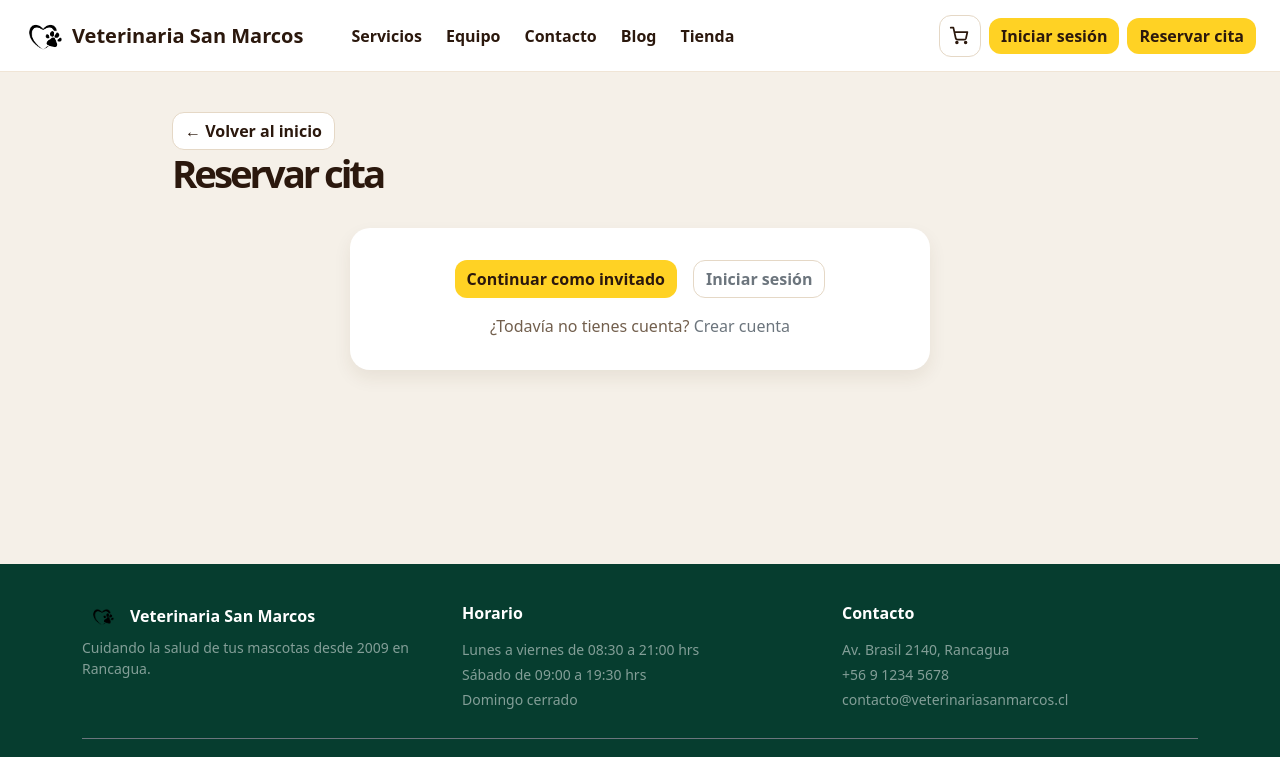
Test: el ingreso opcional vuelve a la reserva y conserva los datos de la mascota
This screenshot has width=1280, height=757.
Step 1. Click the button "Continuar como invitado" → (566, 279), box x1=454 y1=260 x2=677 y2=298
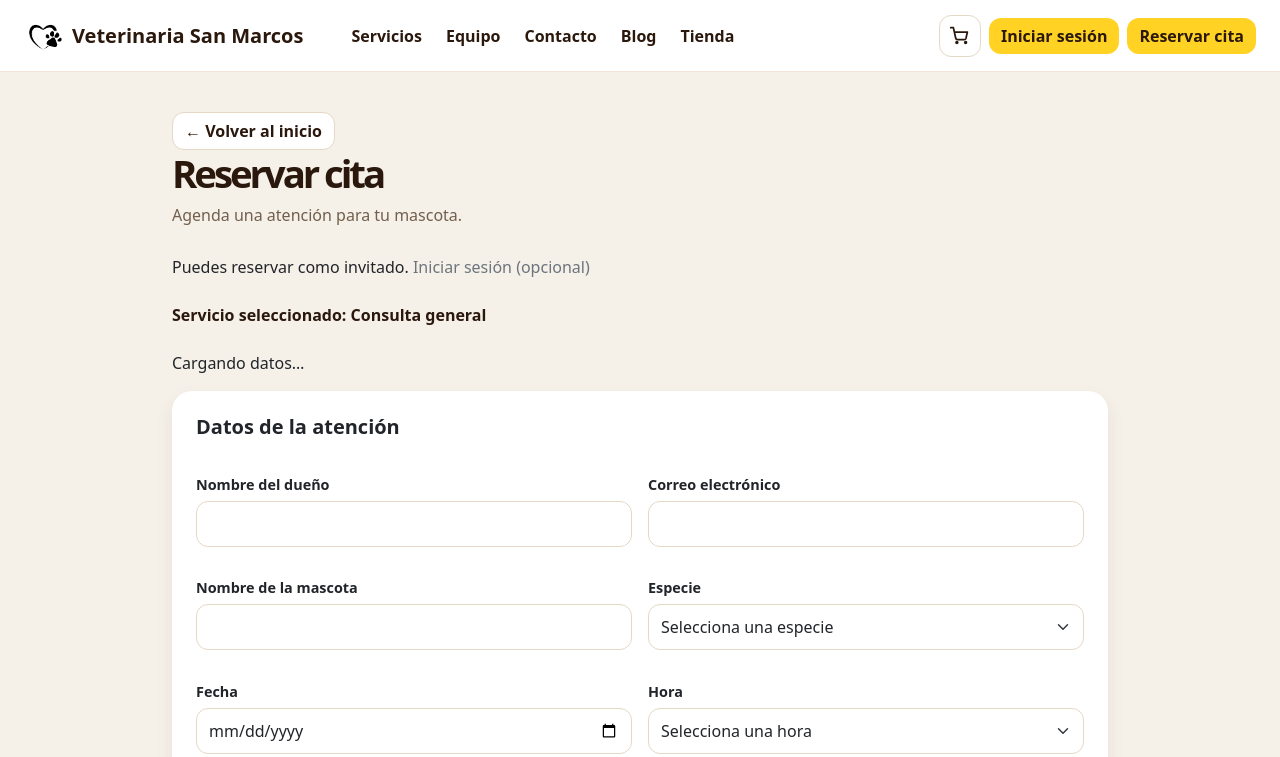
Step 2. Type "Luna" into the field labelled "Nombre de la mascota" → (414, 628), box x1=196 y1=604 x2=632 y2=650
(page scrolled)
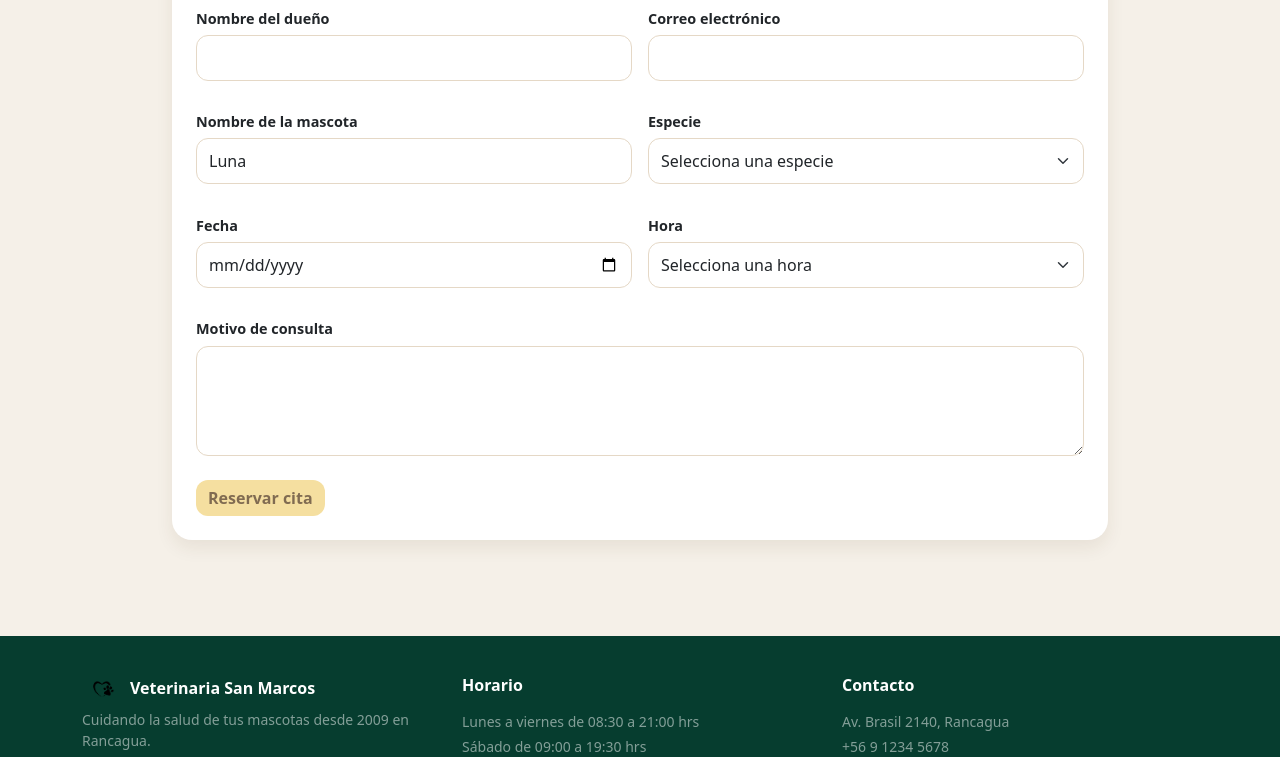
Step 3. Type "Motivo conservado" into the text box labelled "Motivo de consulta" → (640, 401), box x1=196 y1=346 x2=1084 y2=456
(page scrolled)
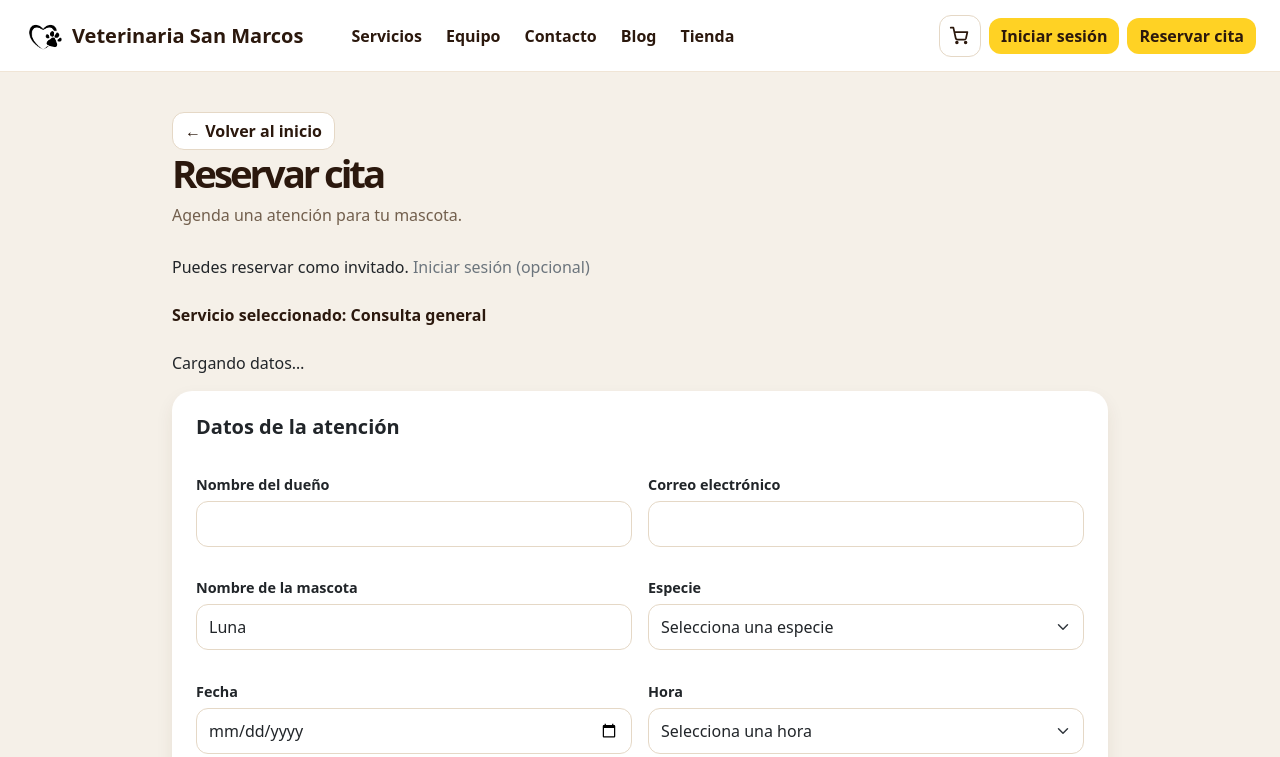
Step 4. Click the link "Iniciar sesión (opcional)" → (501, 267), box x1=413 y1=256 x2=590 y2=278
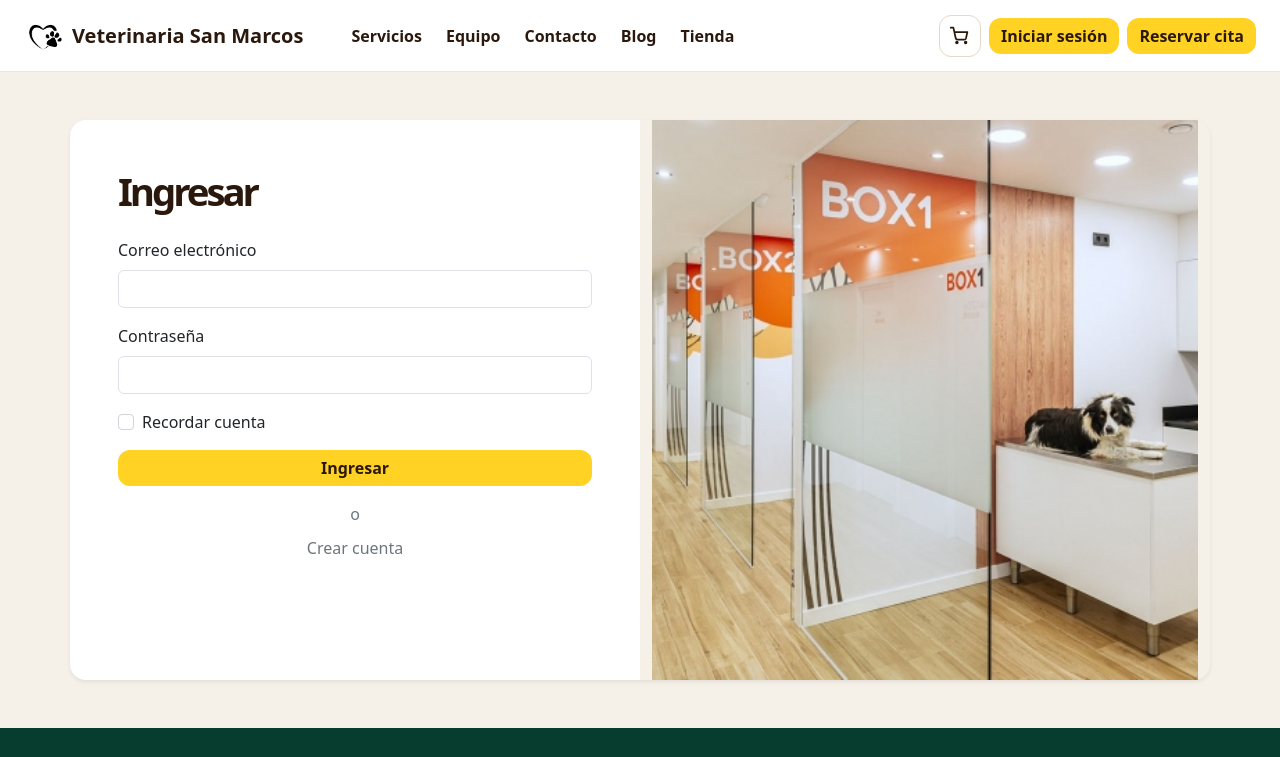
Step 5. Type "sofia@gmail.com" into the field labelled "Correo electrónico" → (355, 289), box x1=118 y1=270 x2=592 y2=308
Step 6. Type "1234" into the password field labelled "Contraseña" → (355, 375), box x1=118 y1=356 x2=592 y2=394
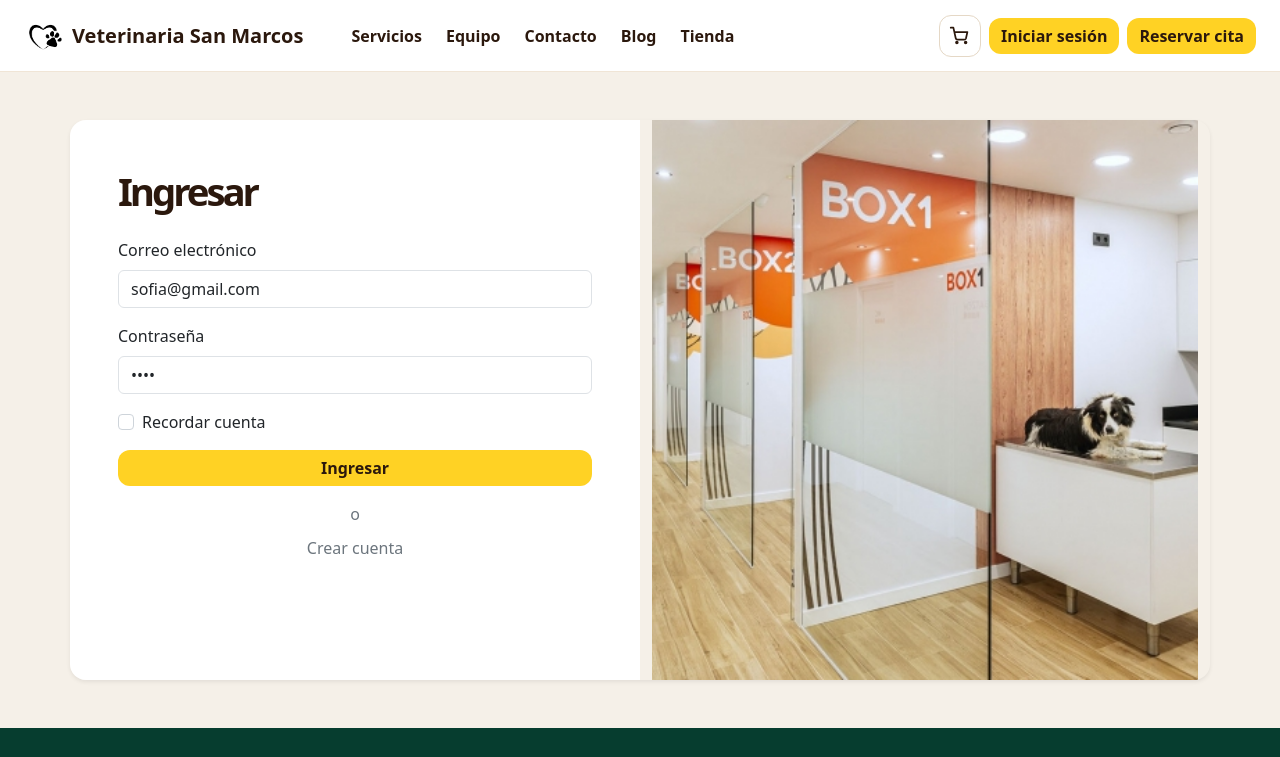
Step 7. Click the button "Ingresar" → (355, 468), box x1=118 y1=450 x2=592 y2=486
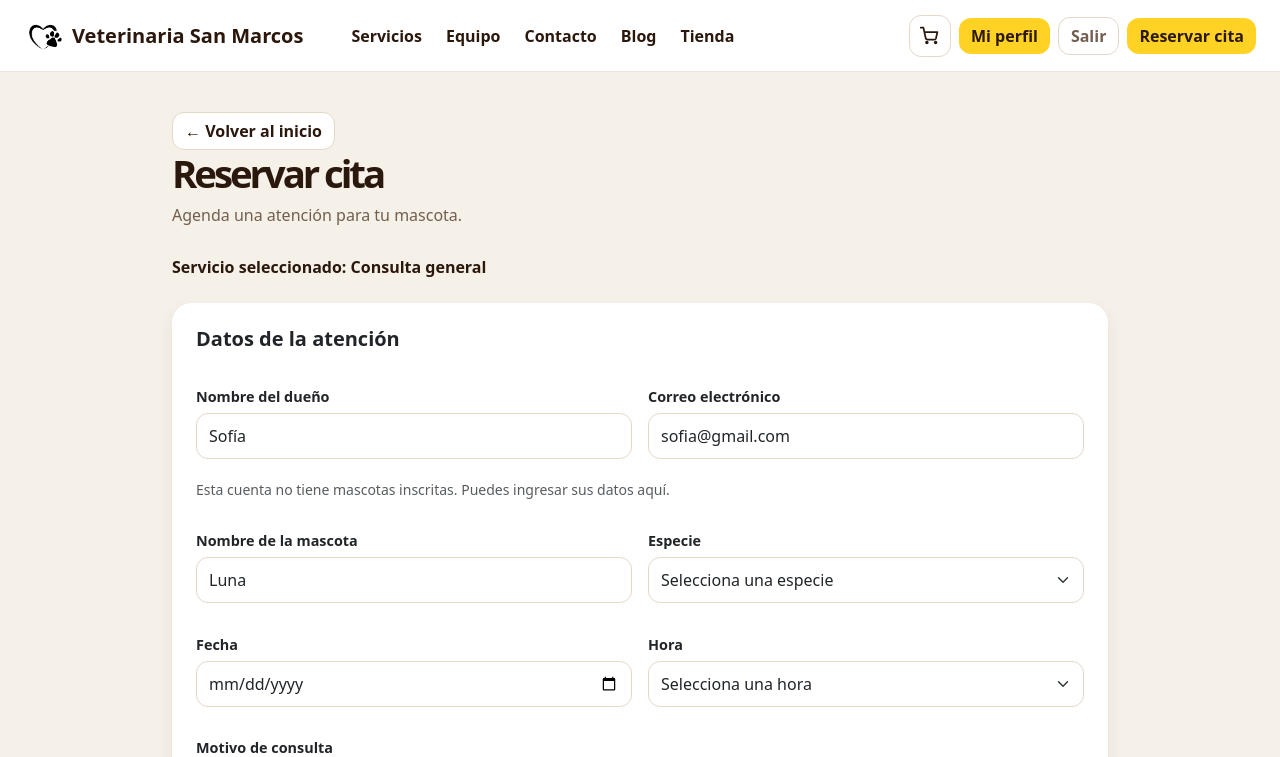
Now the heading "Reservar cita" is shown, box x1=172 y1=147 x2=383 y2=199
Now the field labelled "Nombre de la mascota" holds "Luna", box x1=196 y1=558 x2=632 y2=604
Now the text "Servicio seleccionado: Consulta general" is shown, box x1=172 y1=256 x2=486 y2=278
